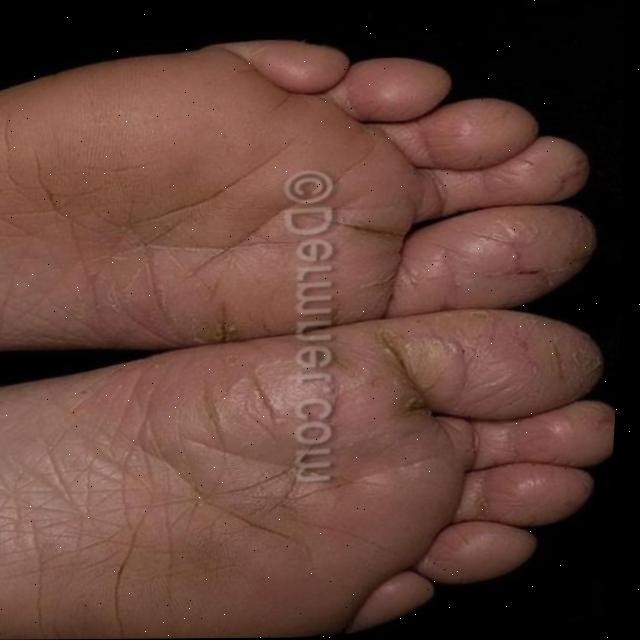Eczema: (110, 89, 615, 490)
